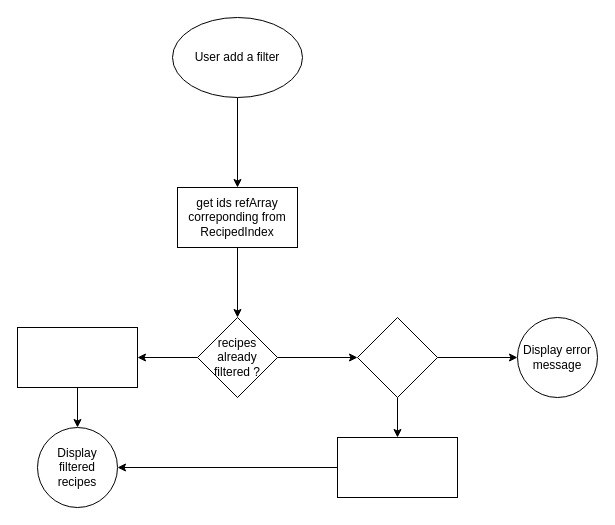
This 615x525 diagram has some shape labels left out. The shapes that lost their labels are listed below. From the top down, each one's centre as x and y in pixels, then its label:
At [77,357]: "update filtered list".
At [397,357]: "ids in refArray AND filtered list ?".
At [397,467]: "upadate filtered list with commun ids".
